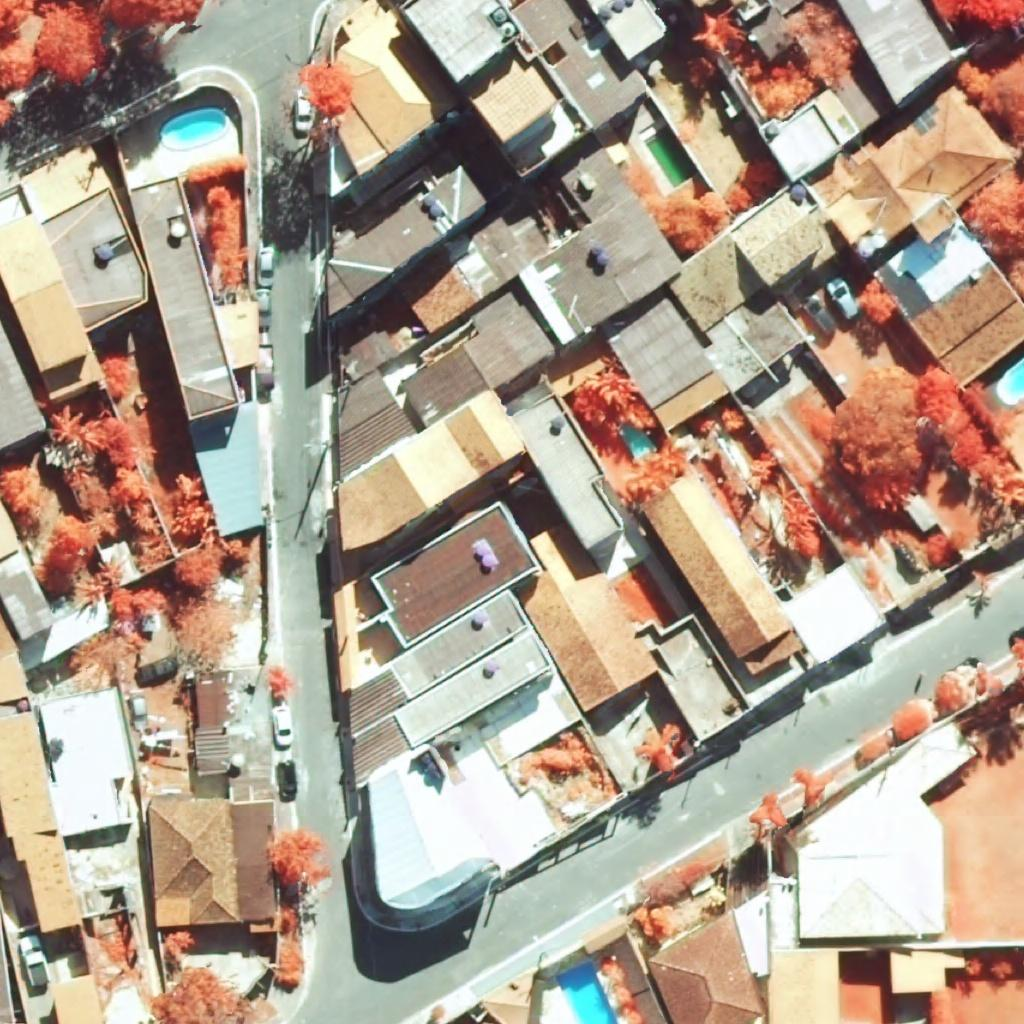pool: (556, 961, 619, 1024), (644, 125, 699, 189), (163, 110, 226, 145), (1008, 360, 1024, 399)
